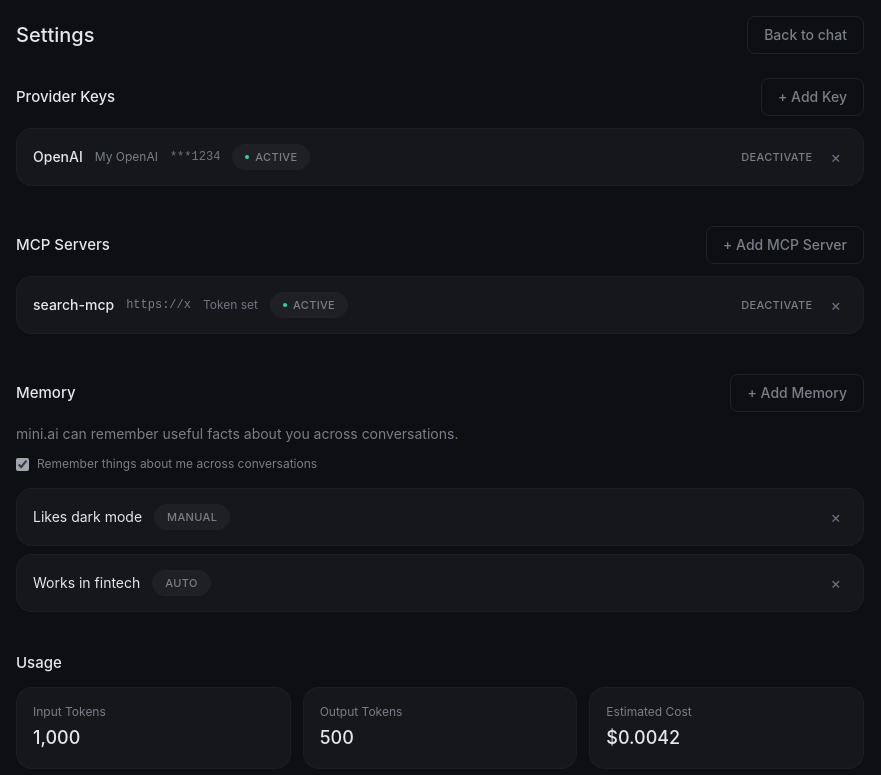
Scenario: Provider Keys › shows an error banner and keeps the key listed when delete fails
Expected: the text "My OpenAI" is shown, [95,149,158,165]
What coordinates should you click on to do the following:
click the button named "Delete My OpenAI"
I would click on:
 (836, 157)
Its box is [824,141,847,173].
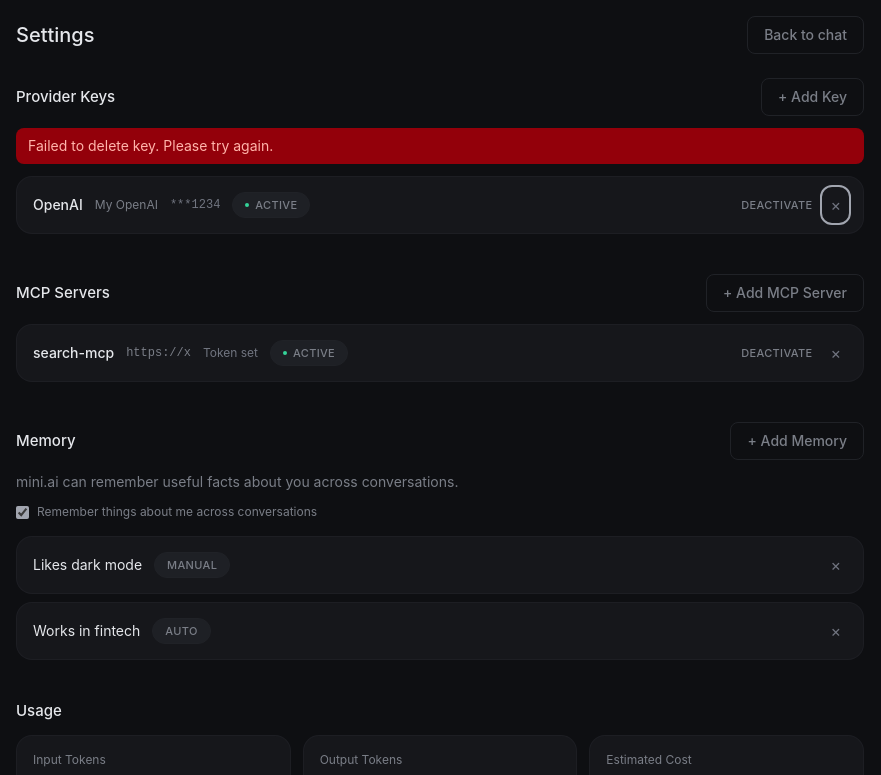
Expected: the text "My OpenAI" is shown, [95,197,158,213]
Expected: the message shows "Failed to delete key", [28,137,273,154]
